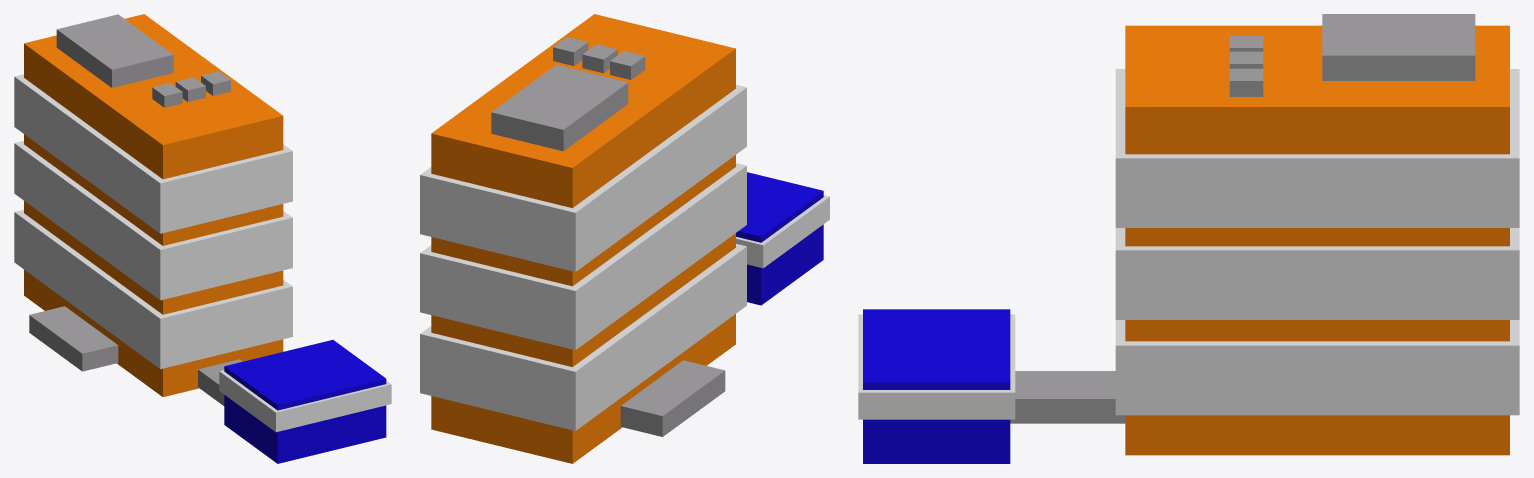
Rendered from big_house.glb.
3 renders of one model, left to right at view 1: azimuth 30°, elevation 25°; view 2: azimuth 150°, elevation 25°; view 3: azimuth 270°, elevation 25°, orthographic. The views are drawn at different scales.
Parts seen in each view (by area): view 1: big_house, big_house_window_4, big_house_window_2, big_house_window_3, big_house_add, big_house_top_room, big_house_window_1, big_house_in, big_house_add_connect, big_house_cond_1, big_house_cond_3, big_house_cond_2; view 2: big_house, big_house_window_3, big_house_window_2, big_house_window_4, big_house_top_room, big_house_add, big_house_in, big_house_window_1, big_house_cond_1, big_house_cond_3, big_house_cond_2; view 3: big_house, big_house_window_3, big_house_window_4, big_house_window_2, big_house_add, big_house_top_room, big_house_window_1, big_house_add_connect, big_house_cond_3.
Part boxes in pixels (left/top/right/bottom): big_house: left=24, top=14, right=283, bottom=396; big_house_window_4: left=14, top=209, right=292, bottom=369; big_house_window_2: left=14, top=141, right=292, bottom=300; big_house_window_3: left=14, top=74, right=292, bottom=233; big_house_add: left=224, top=340, right=386, bottom=463; big_house_top_room: left=56, top=14, right=173, bottom=87; big_house_window_1: left=219, top=370, right=391, bottom=432; big_house_in: left=29, top=306, right=118, bottom=371; big_house_add_connect: left=198, top=359, right=242, bottom=405; big_house_cond_1: left=152, top=83, right=182, bottom=107; big_house_cond_3: left=201, top=71, right=230, bottom=95; big_house_cond_2: left=175, top=77, right=205, bottom=101; big_house: left=431, top=14, right=735, bottom=463; big_house_window_3: left=420, top=85, right=746, bottom=271; big_house_window_2: left=420, top=163, right=746, bottom=350; big_house_window_4: left=420, top=244, right=746, bottom=430; big_house_top_room: left=491, top=64, right=628, bottom=151; big_house_add: left=736, top=172, right=823, bottom=305; big_house_in: left=620, top=360, right=725, bottom=436; big_house_window_1: left=736, top=195, right=829, bottom=268; big_house_cond_1: left=610, top=51, right=645, bottom=79; big_house_cond_3: left=553, top=37, right=588, bottom=65; big_house_cond_2: left=582, top=44, right=617, bottom=73; big_house: left=1125, top=25, right=1509, bottom=455; big_house_window_3: left=1115, top=69, right=1519, bottom=227; big_house_window_4: left=1115, top=320, right=1519, bottom=415; big_house_window_2: left=1115, top=228, right=1519, bottom=319; big_house_add: left=863, top=309, right=1010, bottom=463; big_house_top_room: left=1322, top=14, right=1475, bottom=80; big_house_window_1: left=858, top=314, right=1015, bottom=419; big_house_add_connect: left=1010, top=371, right=1125, bottom=423; big_house_cond_3: left=1229, top=68, right=1263, bottom=96.
Bounding box in the file's own units: 0.6969 × 1.08 × 1.72.
